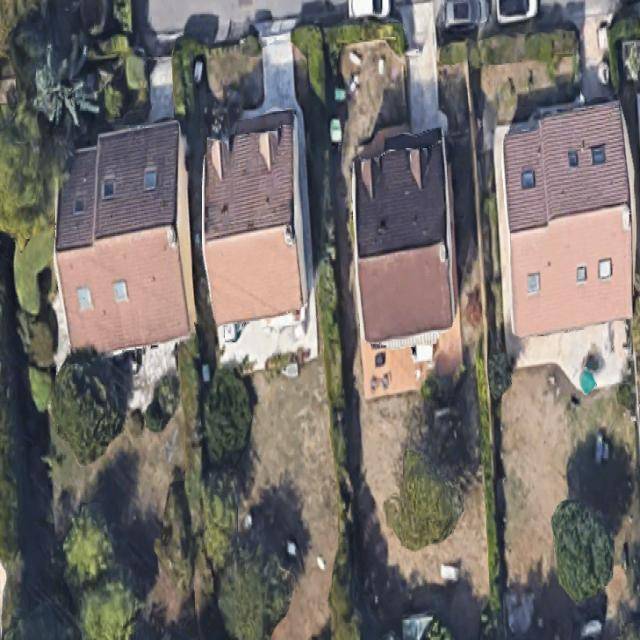maison: (486, 102, 640, 339), (47, 120, 195, 354), (344, 131, 460, 345), (199, 111, 307, 324)
